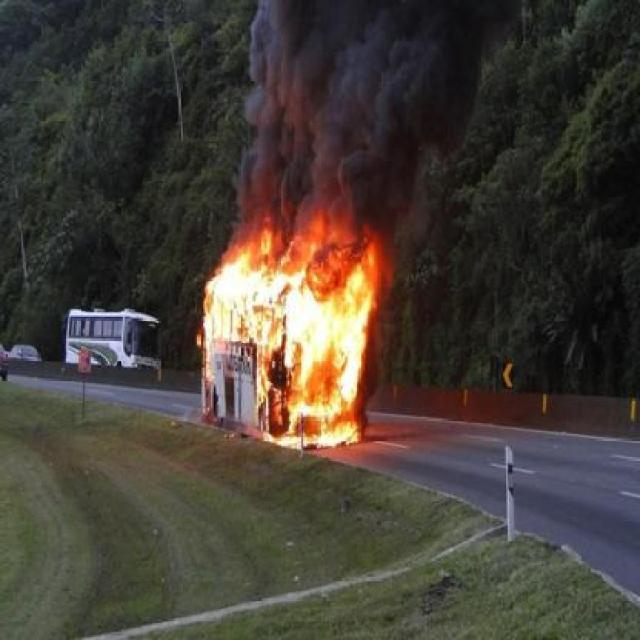Fire: (202, 241, 382, 451)
Smoke: (248, 4, 446, 242)
